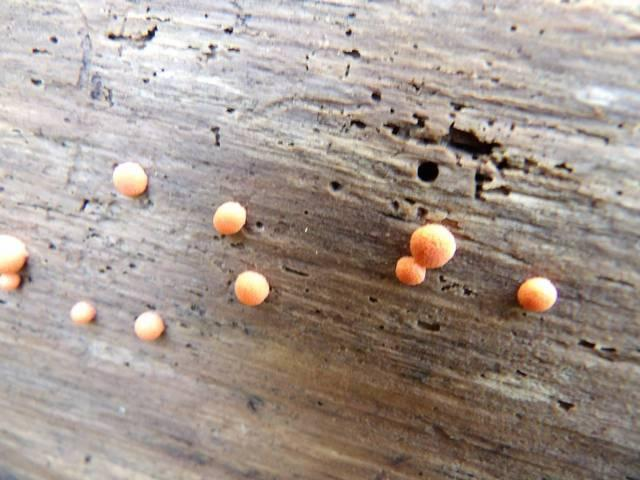poisonous_mushroom: (408, 222, 456, 269), (515, 275, 557, 312), (111, 160, 148, 197), (233, 269, 269, 306), (212, 200, 246, 235), (0, 233, 28, 274), (133, 309, 165, 341), (394, 255, 425, 286), (69, 299, 96, 324), (0, 272, 21, 291)
